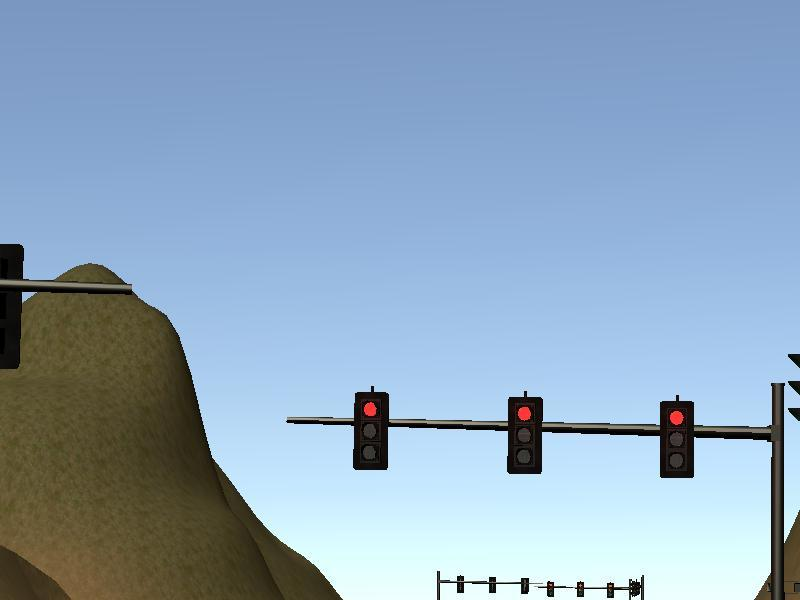Red: (352, 391, 390, 471), (505, 396, 543, 476), (659, 400, 695, 480), (546, 580, 555, 598), (575, 582, 584, 599), (606, 583, 615, 599)
